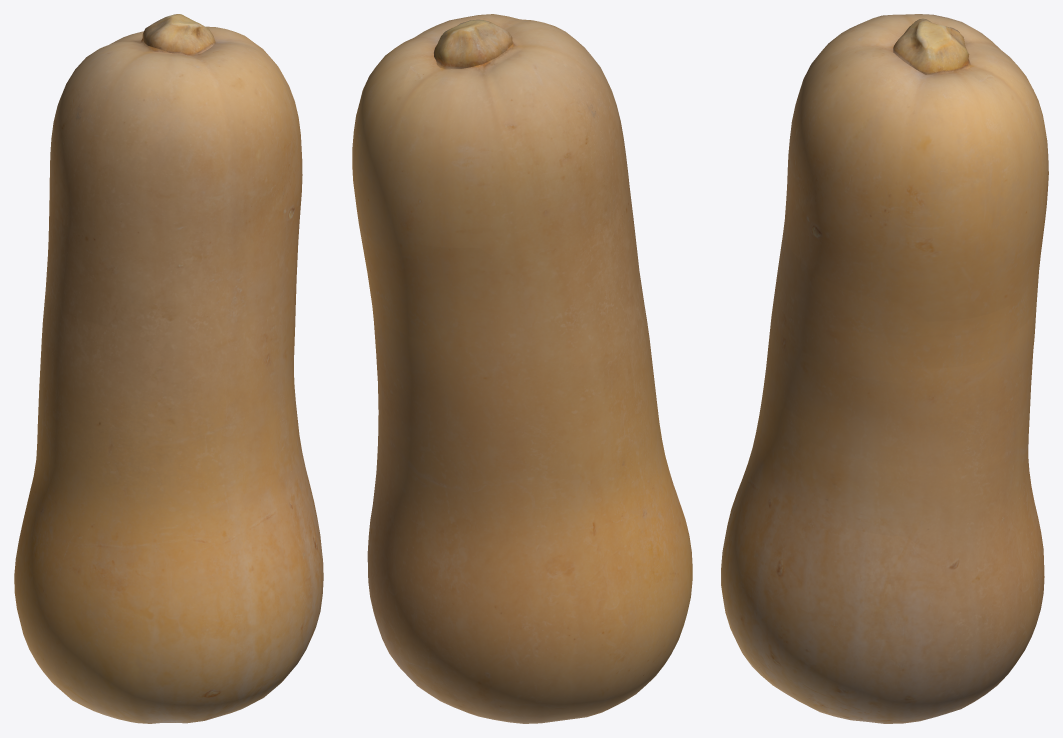
File: squash.fbx
3 views of the same model, side by side, from view 1: azimuth 30°, elevation 25°; view 2: azimuth 150°, elevation 25°; view 3: azimuth 270°, elevation 25° (orthographic). The views are drawn at different scales.
Parts seen in each view (by area): view 1: Butternut_Squash_Low2; view 2: Butternut_Squash_Low2; view 3: Butternut_Squash_Low2.
Boxes of the visible parts, bbox=[...] form: Butternut_Squash_Low2: bbox=[14, 14, 323, 723]; Butternut_Squash_Low2: bbox=[352, 14, 692, 723]; Butternut_Squash_Low2: bbox=[721, 14, 1048, 723].
Bounding box in the file's own units: 2.02 × 4.65 × 2.03.
Materials: 1 (1 with a texture image).
